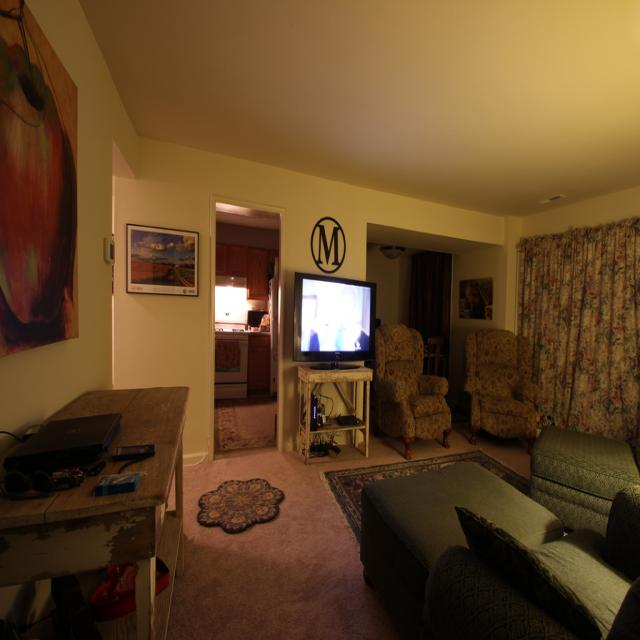chair: (373, 320, 451, 458), (464, 326, 540, 448)
desk: (16, 377, 191, 640)
laptop: (2, 411, 124, 476)
tv: (293, 272, 376, 364)
